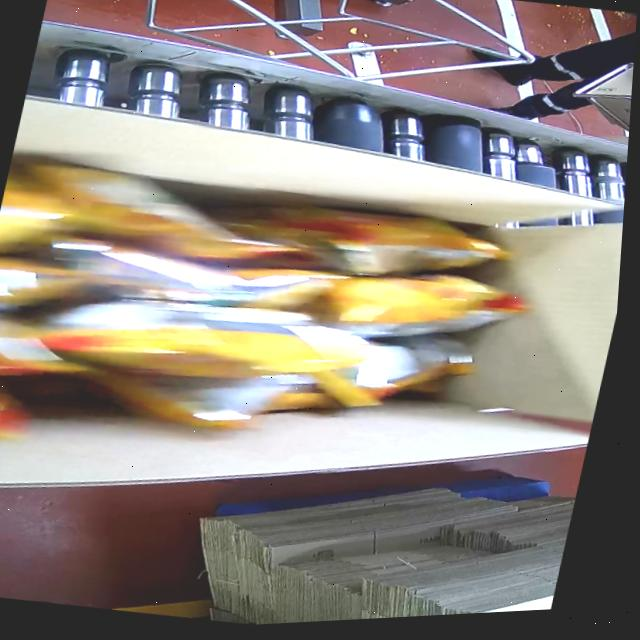FRENCH_CHEESE: (0, 138, 531, 473)
